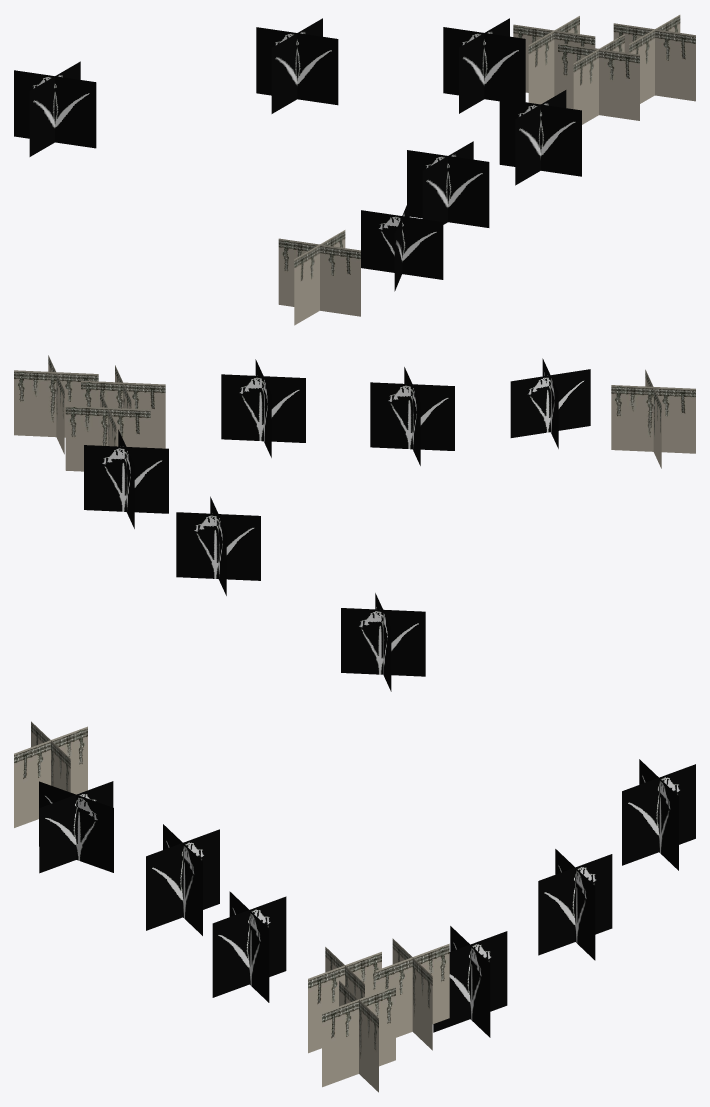
3 renders of one model, top to bottom at view 1: azimuth 30°, elevation 25°; view 2: azimuth 150°, elevation 25°; view 3: azimuth 270°, elevation 25°, orthographic. The views are drawn at different scales.
Visible parts, largest first — view 1: Object98; view 2: Object98; view 3: Object98.
Boxes of the visible parts, x1,y1,x2,y2 form: Object98: (14, 15, 695, 325); Object98: (14, 355, 695, 691); Object98: (14, 721, 695, 1092).
Size of the model in its own units: 122 by 21.01 by 119.
